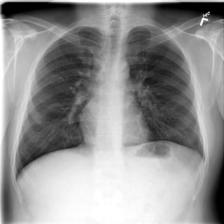normal: (12, 20, 210, 182)
